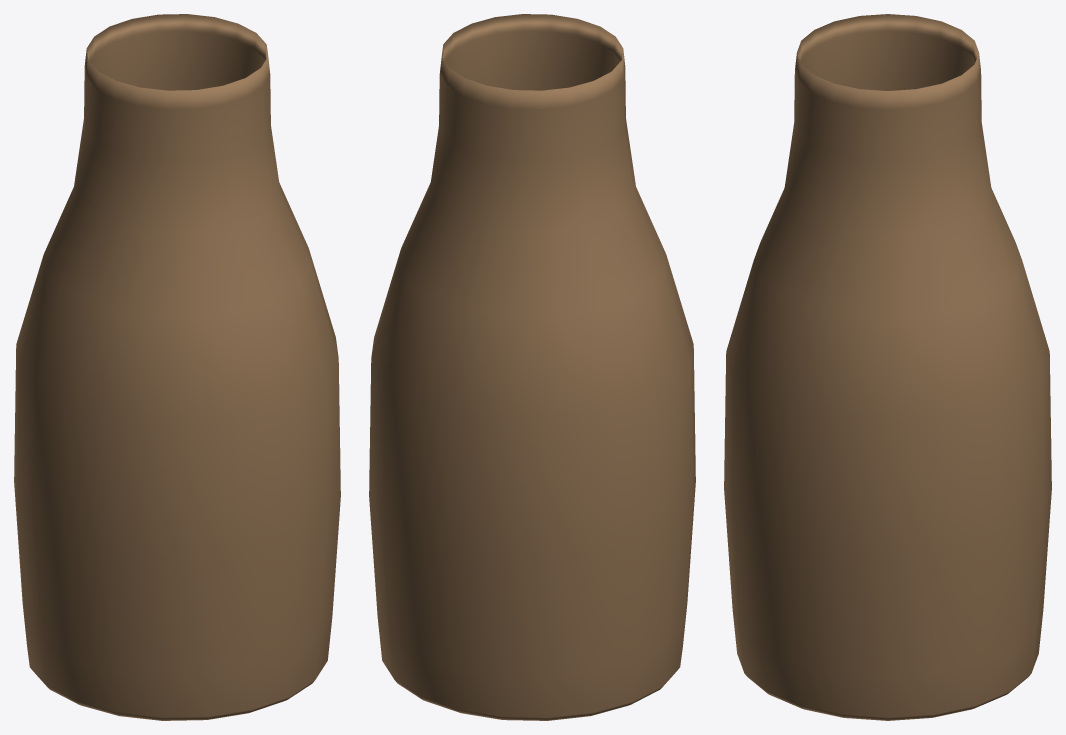
The model's file is Poterie2.fbx.
3 renders of one model, left to right at view 1: azimuth 30°, elevation 25°; view 2: azimuth 150°, elevation 25°; view 3: azimuth 270°, elevation 25°, orthographic.
Visible parts, largest first — view 1: polySurface36; view 2: polySurface36; view 3: polySurface36.
Part boxes in pixels (x1,y1,x2,y2): polySurface36: (14, 14, 340, 720); polySurface36: (369, 14, 695, 720); polySurface36: (724, 14, 1051, 720).
Bounding box in the file's own units: 0.1356 × 0.2779 × 0.1354.
